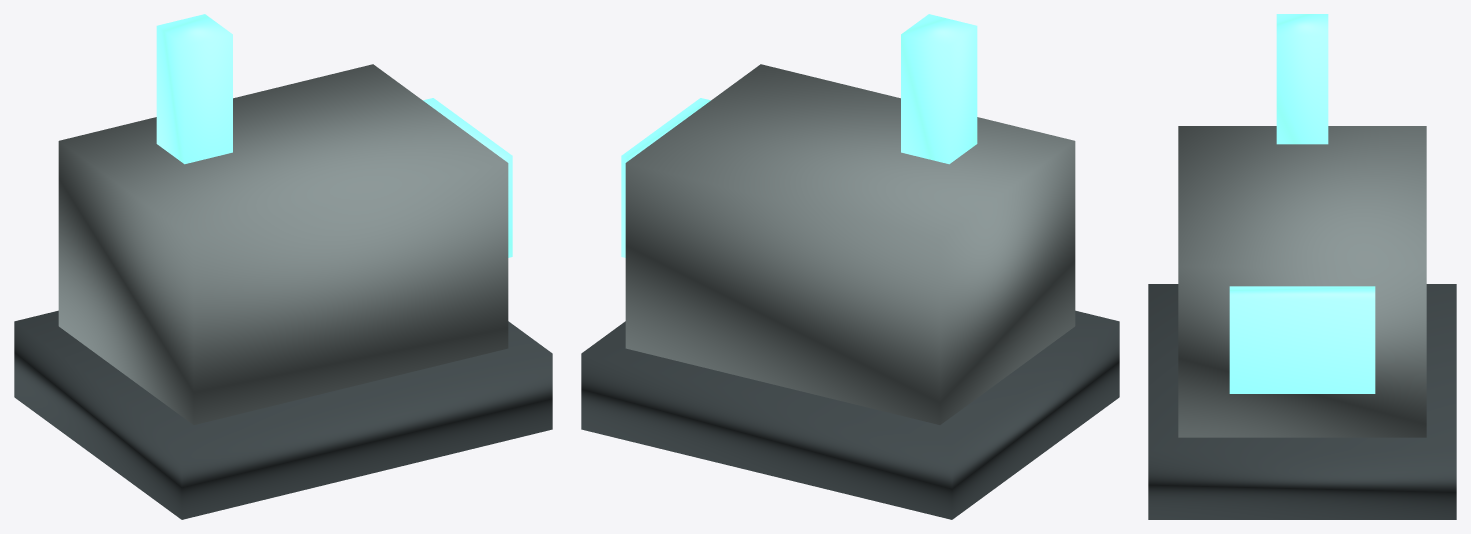
File: interactable-salvage-tag-node-lod2.glb
3 views of the same model, side by side, from view 1: azimuth 30°, elevation 25°; view 2: azimuth 150°, elevation 25°; view 3: azimuth 270°, elevation 25° (orthographic). The views are drawn at different scales.
Visible parts, largest first — view 1: interactable-salvage-case, interactable-salvage-base, interactable-salvage-beacon, interactable-salvage-tag-emitter; view 2: interactable-salvage-case, interactable-salvage-base, interactable-salvage-beacon, interactable-salvage-tag-emitter; view 3: interactable-salvage-case, interactable-salvage-base, interactable-salvage-tag-emitter, interactable-salvage-beacon.
Boxes of the visible parts, left/top/right/bottom form: interactable-salvage-case: left=58, top=64, right=508, bottom=424; interactable-salvage-base: left=14, top=310, right=552, bottom=519; interactable-salvage-beacon: left=156, top=14, right=232, bottom=164; interactable-salvage-tag-emitter: left=423, top=98, right=512, bottom=257; interactable-salvage-case: left=625, top=64, right=1075, bottom=424; interactable-salvage-base: left=581, top=310, right=1119, bottom=519; interactable-salvage-beacon: left=901, top=14, right=977, bottom=164; interactable-salvage-tag-emitter: left=621, top=98, right=710, bottom=257; interactable-salvage-case: left=1178, top=126, right=1426, bottom=437; interactable-salvage-base: left=1148, top=284, right=1456, bottom=519; interactable-salvage-tag-emitter: left=1229, top=286, right=1375, bottom=393; interactable-salvage-beacon: left=1276, top=14, right=1328, bottom=144.
Size of the model in its own units: 0.93 by 0.96 by 0.72.
